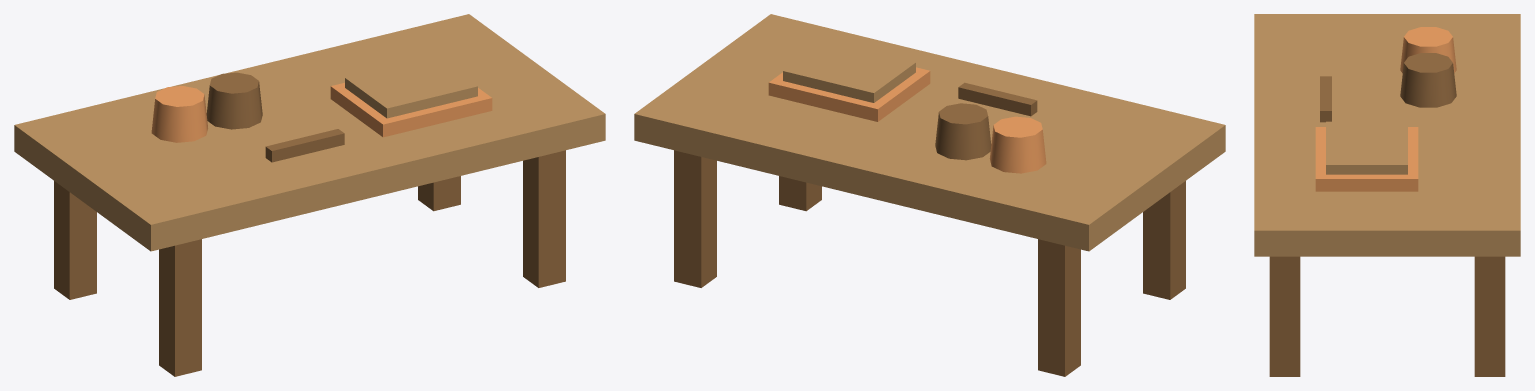
Rendered from craft_table.glb.
3 views of the same model, side by side, from view 1: azimuth 30°, elevation 25°; view 2: azimuth 150°, elevation 25°; view 3: azimuth 270°, elevation 25° (orthographic). The views are drawn at different scales.
Parts seen in each view (by area): view 1: craft_table; view 2: craft_table; view 3: craft_table.
Part boxes in pixels (x1,y1,x2,y2): craft_table: [14, 14, 605, 376]; craft_table: [634, 14, 1225, 376]; craft_table: [1254, 14, 1520, 376].
Bounding box in the file's own units: 50 × 21 × 26.
